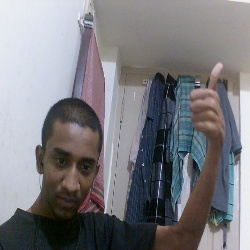hand: (190, 56, 231, 145)
